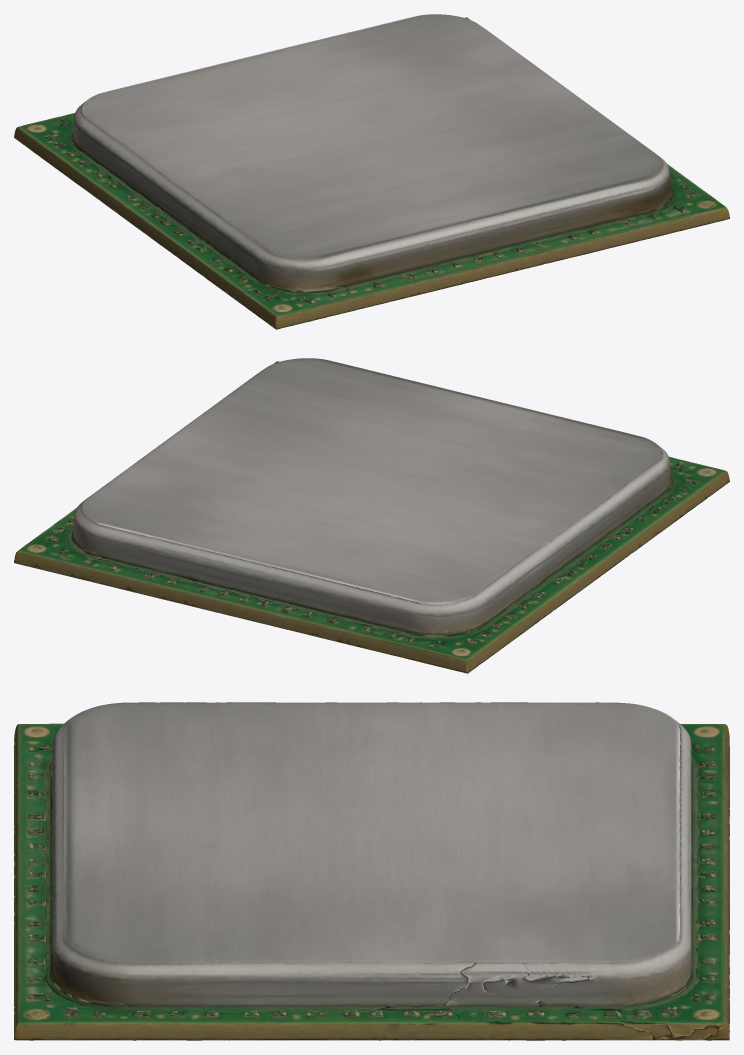
Rendered from chip_trellis.glb.
The picture shows the model from 3 angles, top to bottom: view 1: azimuth 30°, elevation 25°; view 2: azimuth 150°, elevation 25°; view 3: azimuth 270°, elevation 25°; orthographic projection. The views are drawn at different scales.
Parts seen in each view (by area): view 1: world; view 2: world; view 3: world.
Part boxes in pixels (x1=…): world: x1=14, y1=14, x2=729, y2=329; world: x1=14, y1=358, x2=729, y2=673; world: x1=14, y1=702, x2=729, y2=1040.
Size of the model in its own units: 0.987 by 0.0899 by 0.9875.
Materials: 1 (1 with a texture image).
